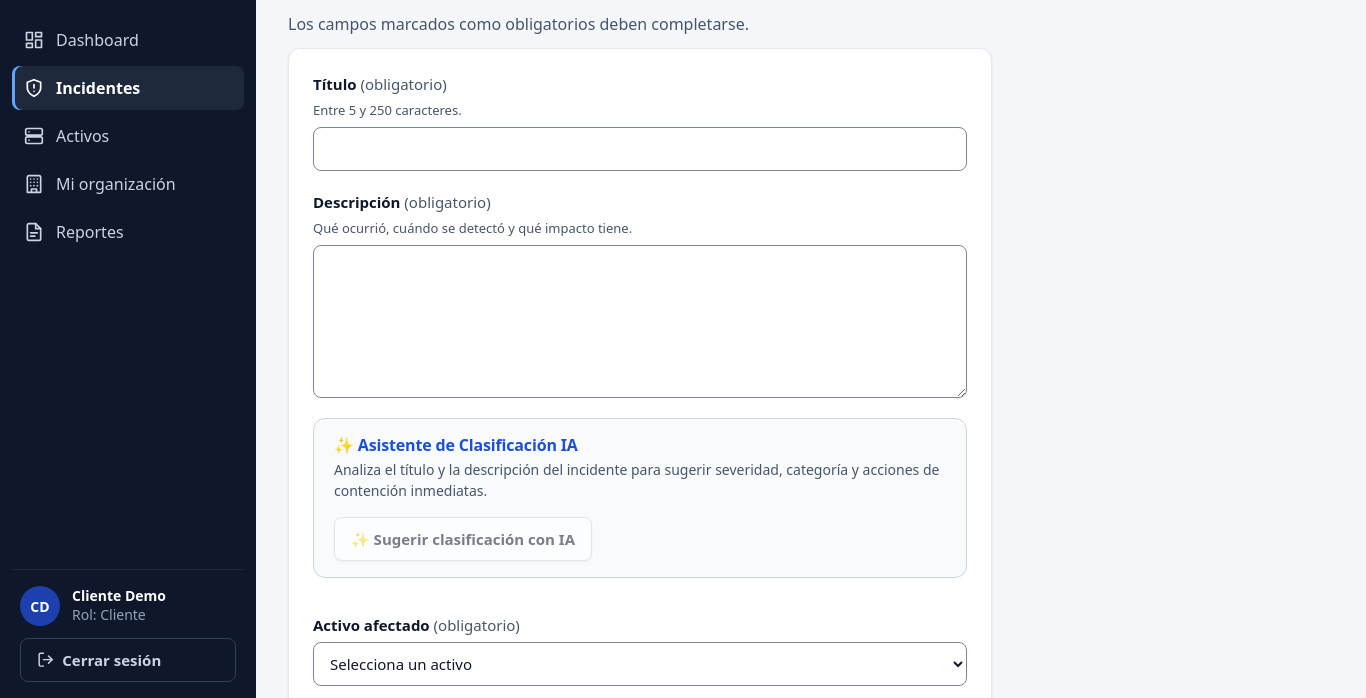
Test: CRUD de incidentes › valida el formulario en el cliente antes de enviar
Type "abc" into the field labelled "Título (obligatorio)" at [640, 148], box [313,126,967,170]
(page scrolled)
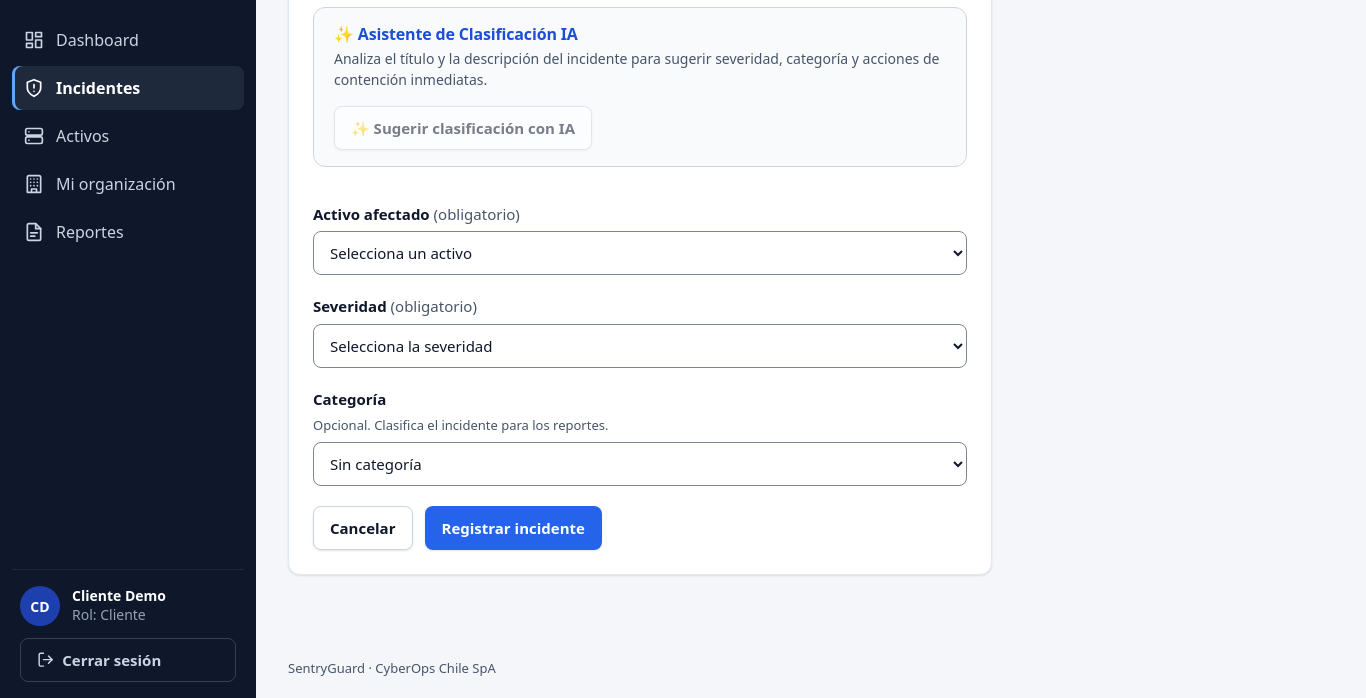
Click the button "Registrar incidente" at [513, 528], box [424,506,602,550]
(page scrolled)
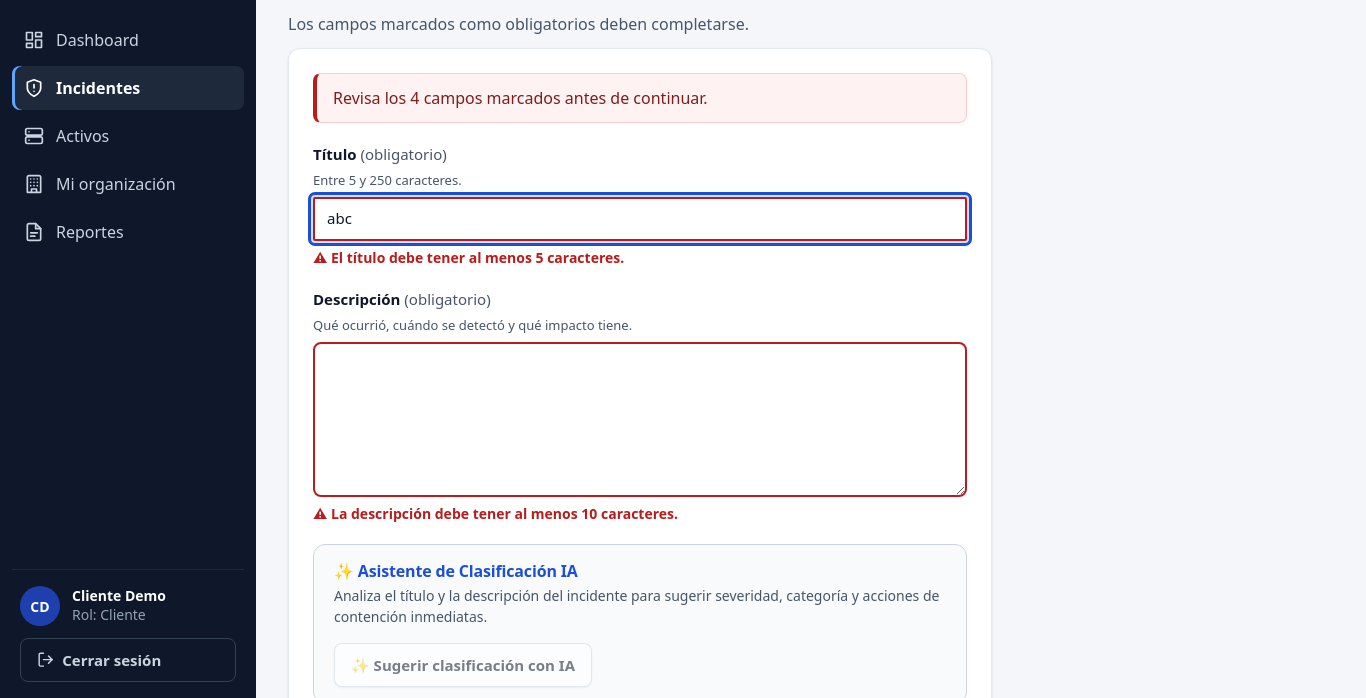
Expected: the text "El título debe tener al menos 5 caracteres." is shown, [331,248,624,266]
